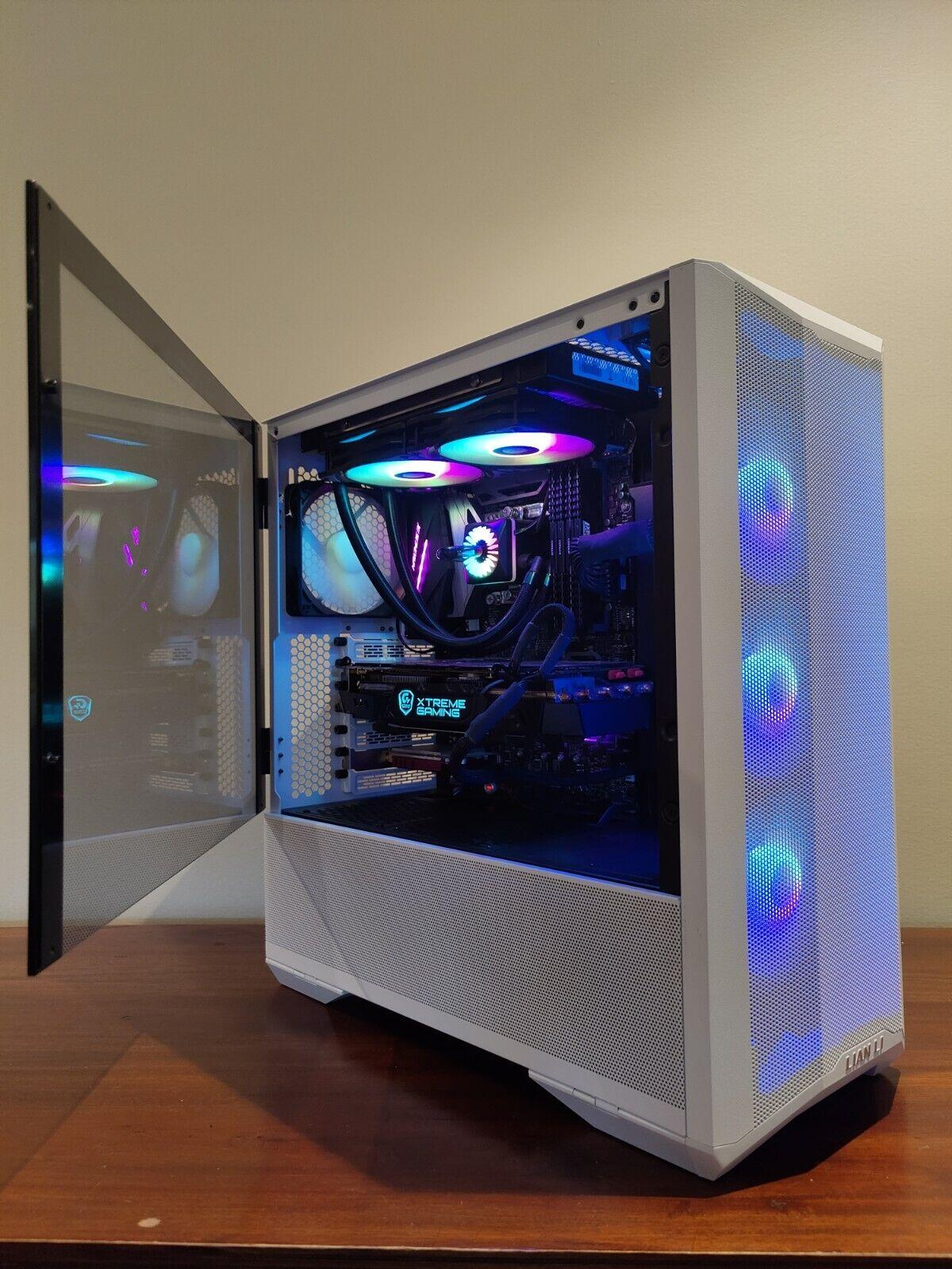DESKTOP PC: (231, 260, 923, 1173)
